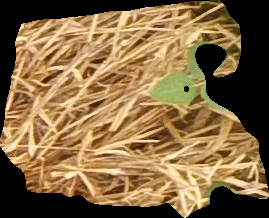soil: (3, 3, 267, 218)
